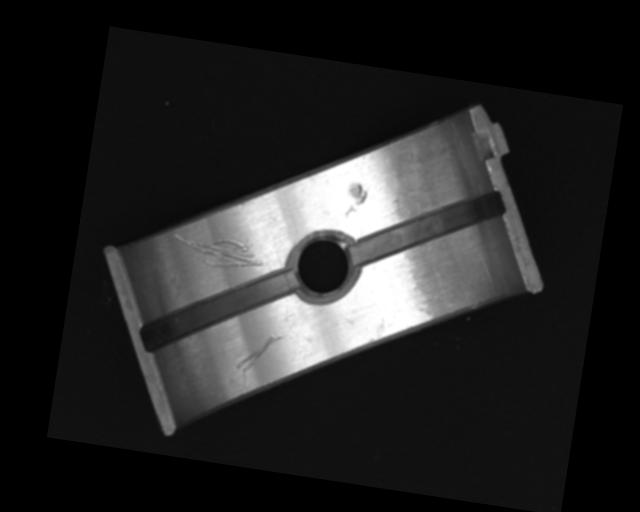bruise: (343, 180, 369, 221)
gap: (139, 249, 297, 370), (352, 171, 506, 286)
hole: (283, 227, 363, 305)
nick: (169, 229, 266, 275), (235, 328, 281, 376)
